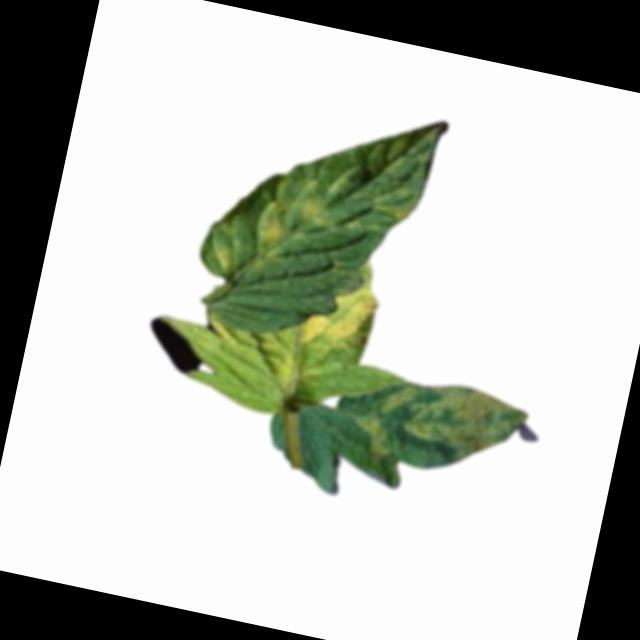Leaf_Mold: (346, 364, 532, 511), (295, 246, 389, 365), (246, 173, 337, 266), (200, 215, 249, 278)
